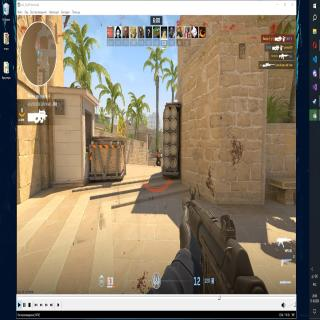T-Body: (155, 146, 161, 166)
T-Head: (156, 147, 159, 154)
